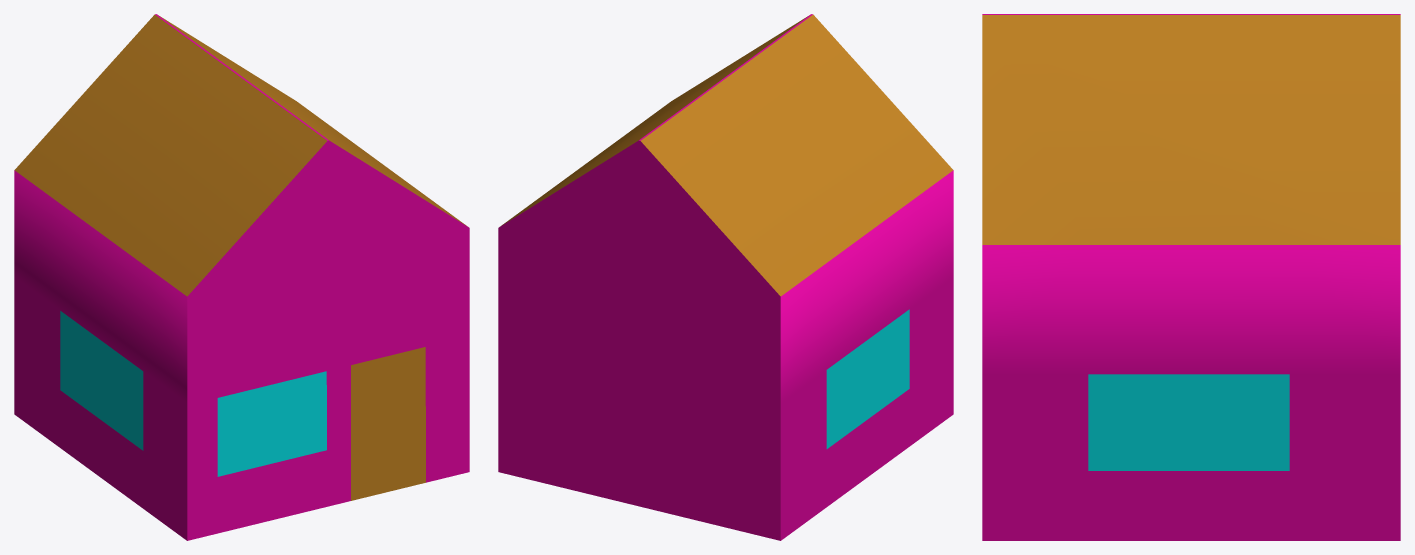
File: house pink.fbx
3 views of the same model, side by side, from view 1: azimuth 30°, elevation 25°; view 2: azimuth 150°, elevation 25°; view 3: azimuth 270°, elevation 25° (orthographic). The views are drawn at different scales.
Parts seen in each view (by area): view 1: pCube1; view 2: pCube1; view 3: pCube1.
Part boxes in pixels (box(x1,y1,x2,y2)): pCube1: box(14, 14, 469, 540); pCube1: box(498, 14, 953, 540); pCube1: box(982, 14, 1400, 540).
Size of the model in its own units: 8.62 by 10.67 by 9.14.
